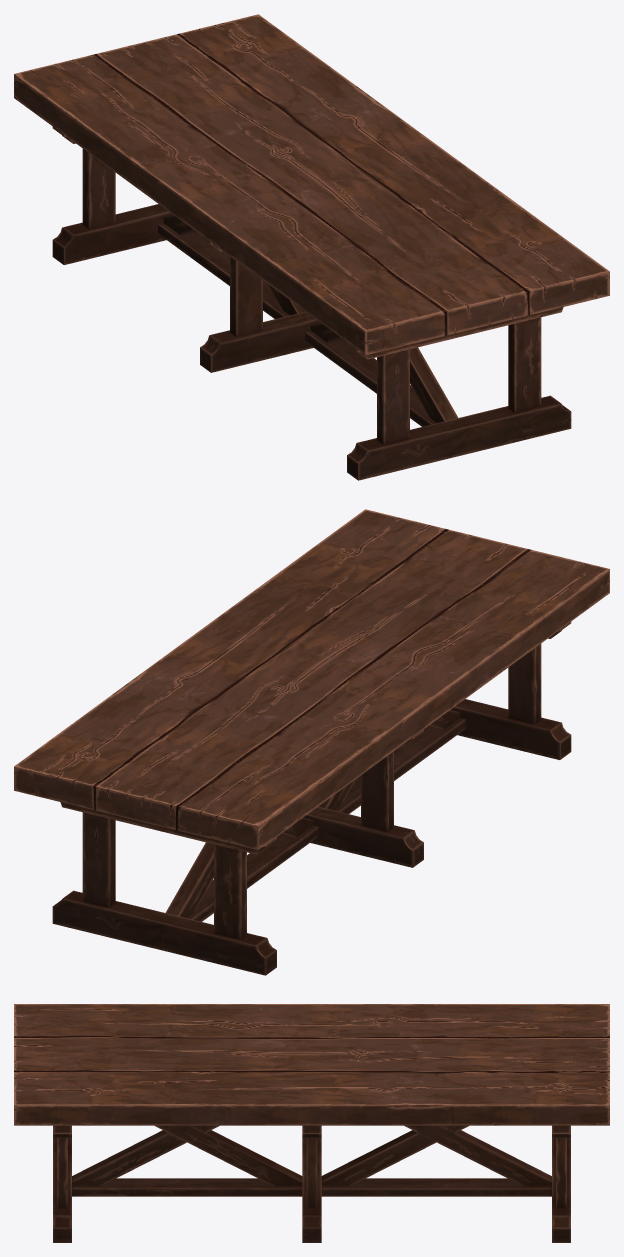
The model's file is Table.fbx.
The picture shows the model from 3 angles, top to bottom: view 1: azimuth 30°, elevation 25°; view 2: azimuth 150°, elevation 25°; view 3: azimuth 270°, elevation 25°; orthographic projection. The views are drawn at different scales.
Parts seen in each view (by area): view 1: Table; view 2: Table; view 3: Table.
Part boxes in pixels (x1,y1,x2,y2): Table: (14,14,609,480); Table: (14,509,609,975); Table: (14,1004,609,1242).
Bounding box in the file's own units: 1.2 × 0.8004 × 3.
1 material, 1 textured.
